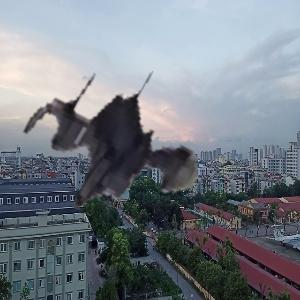drone: (30, 23, 233, 226)
